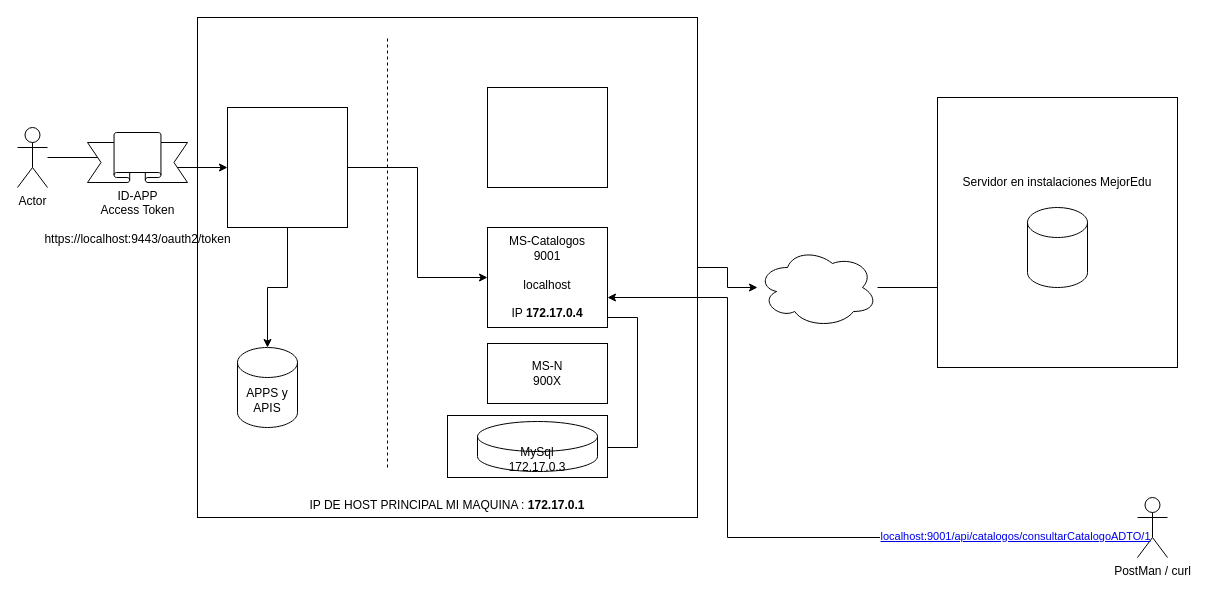
Some shapes in this 1208 by 596 pixel diagram are drawn without their labels. Here are the shapes that lost their labels. From the top down, the box of each, then its label:
(486, 86, 608, 188): MS-Seguridad 9000 localhost ip ???
(226, 106, 348, 228): API MANAGER 1) Crear APP 2 Crear el API localhost 8284 ip 172.17.0.2
(1026, 206, 1088, 288): LDAP
(756, 246, 878, 328): VPN
